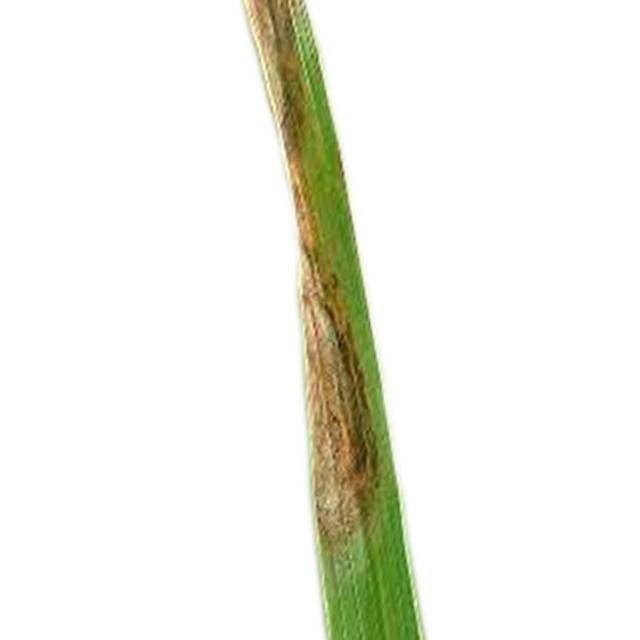Leaf scald: (203, 0, 544, 640)
